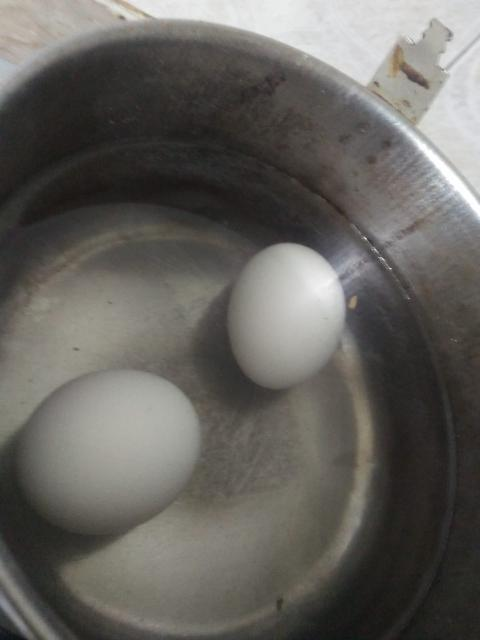Sano: (14, 370, 203, 535), (226, 241, 349, 391)
